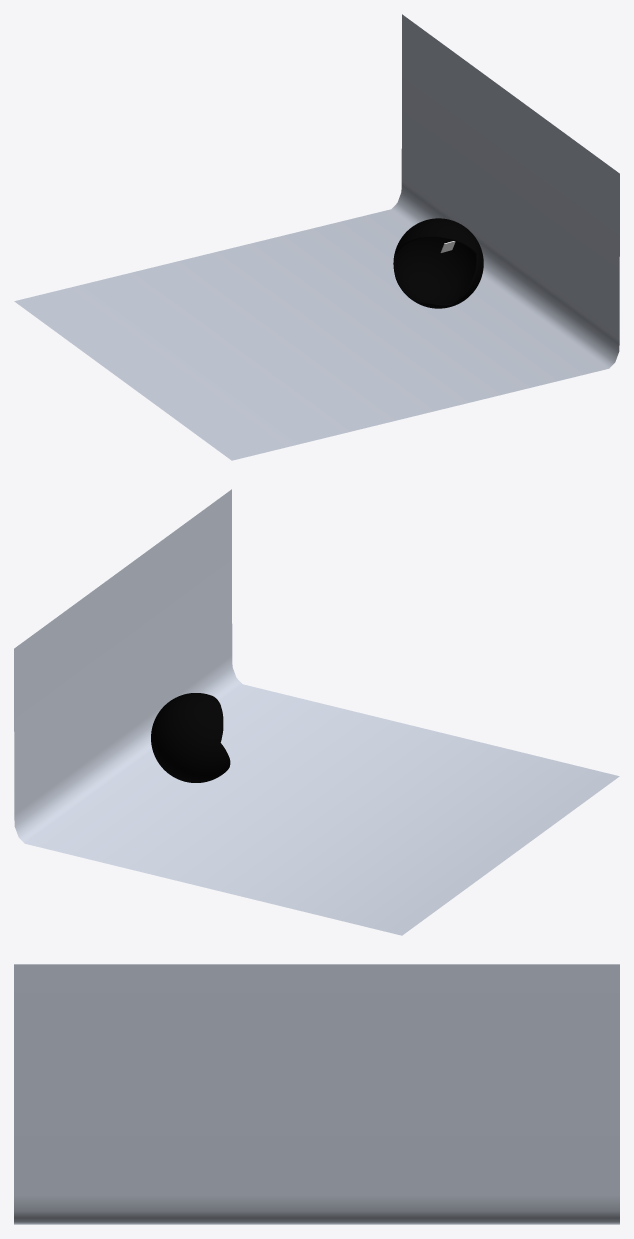
File: cabo.glb
3 views of the same model, one above another, from view 1: azimuth 30°, elevation 25°; view 2: azimuth 150°, elevation 25°; view 3: azimuth 270°, elevation 25° (orthographic). The views are drawn at different scales.
Visible parts, largest first — view 1: Plane, Icosphere; view 2: Plane, Icosphere; view 3: Plane.
Boxes of the visible parts, x1,y1,x2,y2 form: Plane: (14, 14, 619, 460); Icosphere: (393, 218, 483, 308); Plane: (14, 489, 619, 935); Icosphere: (151, 693, 230, 782); Plane: (14, 964, 619, 1224).
Size of the model in its own units: 65.45 by 31.01 by 63.64.
